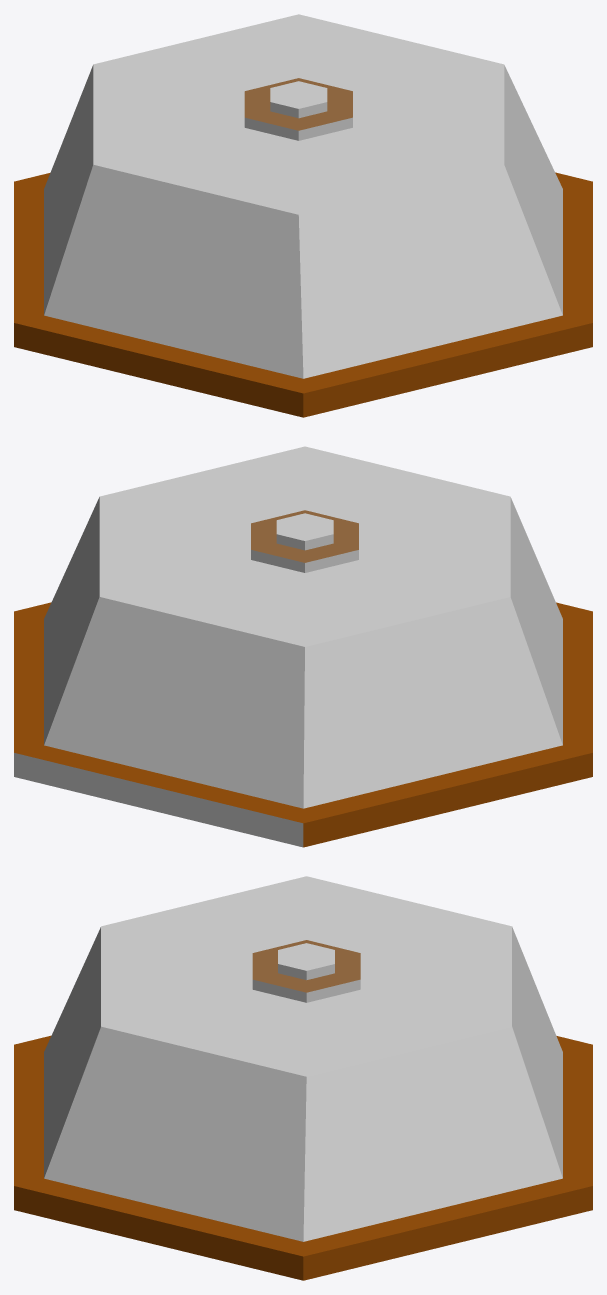
Rendered from BoobLamp.dae.
The picture shows the model from 3 angles, top to bottom: view 1: azimuth 30°, elevation 25°; view 2: azimuth 150°, elevation 25°; view 3: azimuth 270°, elevation 25°; orthographic projection.
Visible parts, largest first — view 1: SketchUp (×5); view 2: SketchUp (×6); view 3: SketchUp (×5).
Part boxes in pixels (bbox=[...]): SketchUp (×5): bbox=[14, 14, 592, 417]; SketchUp (×6): bbox=[14, 446, 592, 847]; SketchUp (×5): bbox=[14, 876, 592, 1280].
Size of the model in its own units: 48.54 by 42.04 by 14.5.
